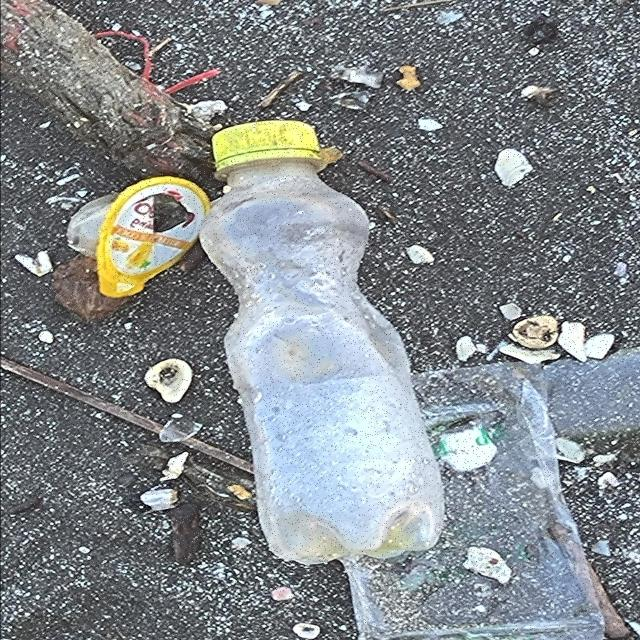plastic_waste: (197, 119, 447, 568)
